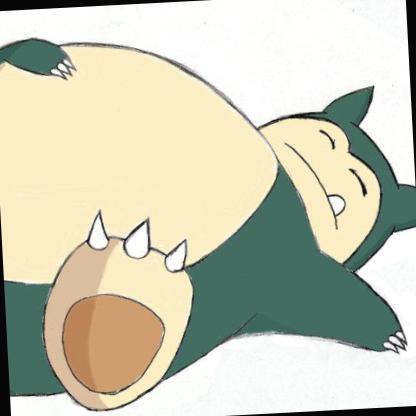Relaxo: (1, 0, 415, 415)
